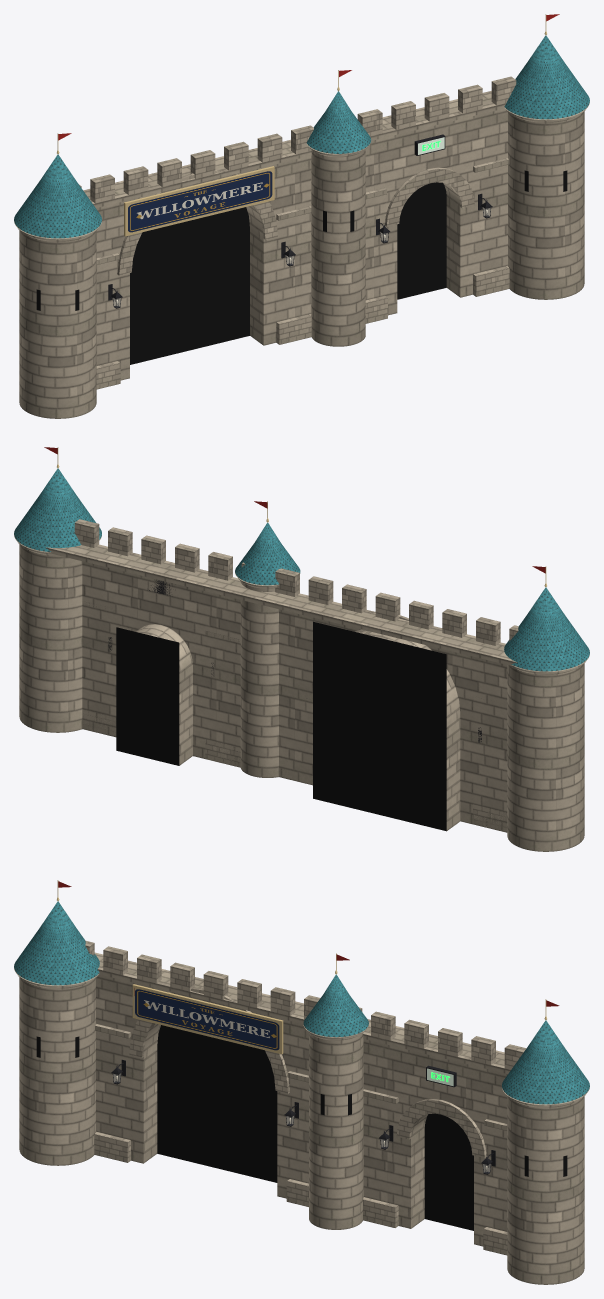
Rendered from SM_QUE_Station_Facade_12m.fbx.
3 renders of one model, top to bottom at view 1: azimuth 30°, elevation 25°; view 2: azimuth 150°, elevation 25°; view 3: azimuth 330°, elevation 25°, orthographic.
Visible parts, largest first — view 1: SM_QUE_Station_Facade_12m_LOD0; view 2: SM_QUE_Station_Facade_12m_LOD0; view 3: SM_QUE_Station_Facade_12m_LOD0.
Part boxes in pixels (x1,y1,x2,y2): SM_QUE_Station_Facade_12m_LOD0: [14, 14, 589, 418]; SM_QUE_Station_Facade_12m_LOD0: [14, 447, 589, 851]; SM_QUE_Station_Facade_12m_LOD0: [14, 880, 589, 1284].
Size of what is drawn, in the model's own units: 14.34 by 6.54 by 1.94.
